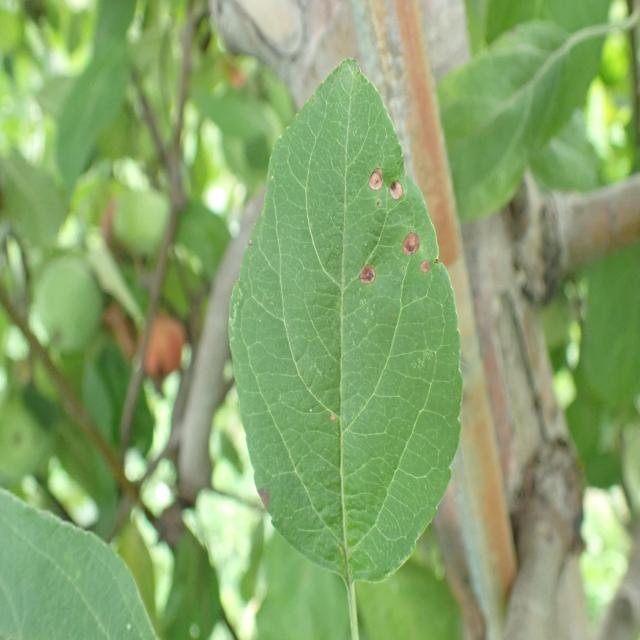frog-eye-leaf-spot: (228, 56, 463, 584)
